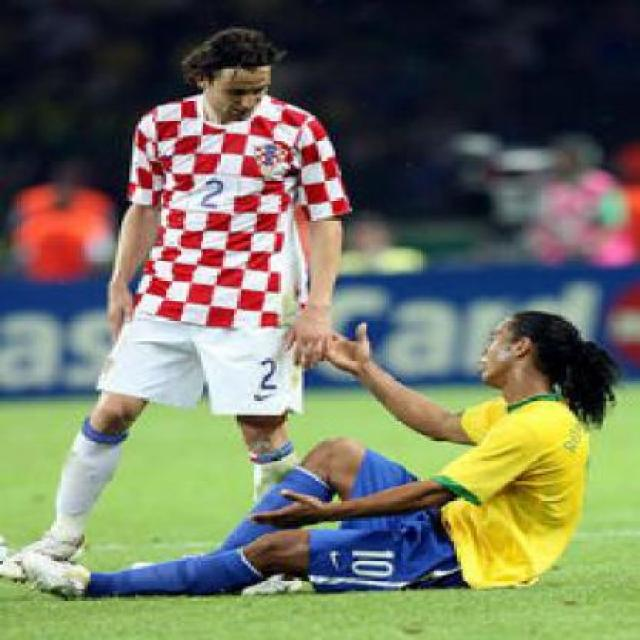fall: (14, 287, 609, 598)
